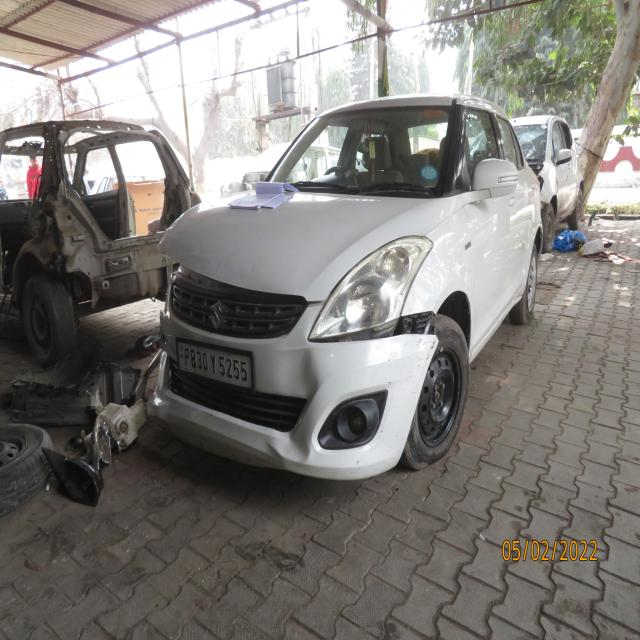damage: (310, 298, 444, 349), (385, 334, 440, 387), (284, 341, 325, 406), (135, 346, 170, 421), (266, 428, 312, 468), (158, 274, 176, 352), (158, 217, 180, 261)
